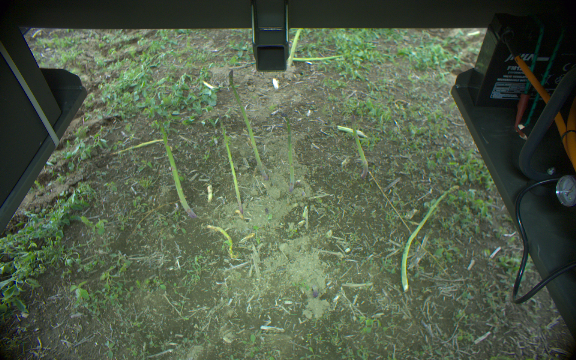aspa: (153, 109, 196, 219), (229, 69, 268, 181), (212, 110, 244, 213), (277, 110, 298, 193), (347, 112, 369, 178), (286, 29, 302, 70)
